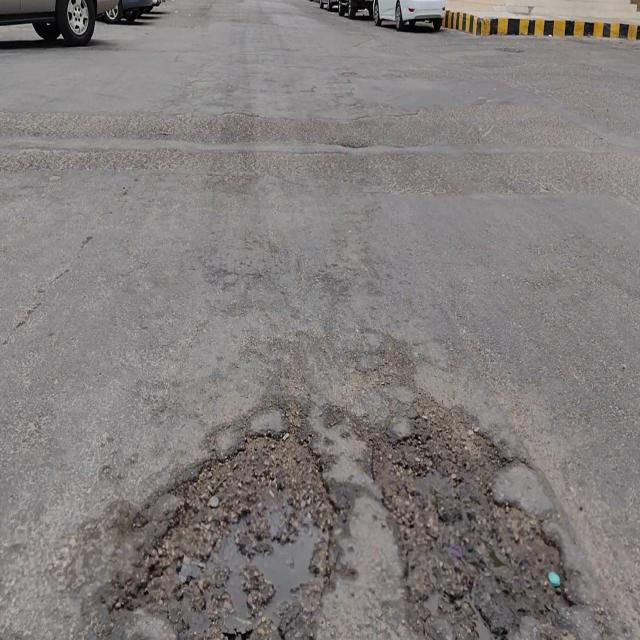Potholes: (108, 422, 340, 637), (371, 406, 569, 638)
